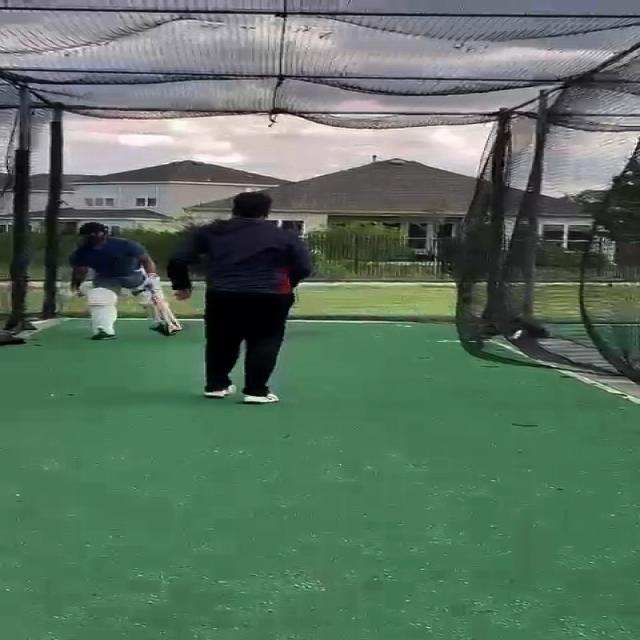batsman: (66, 220, 185, 342)
